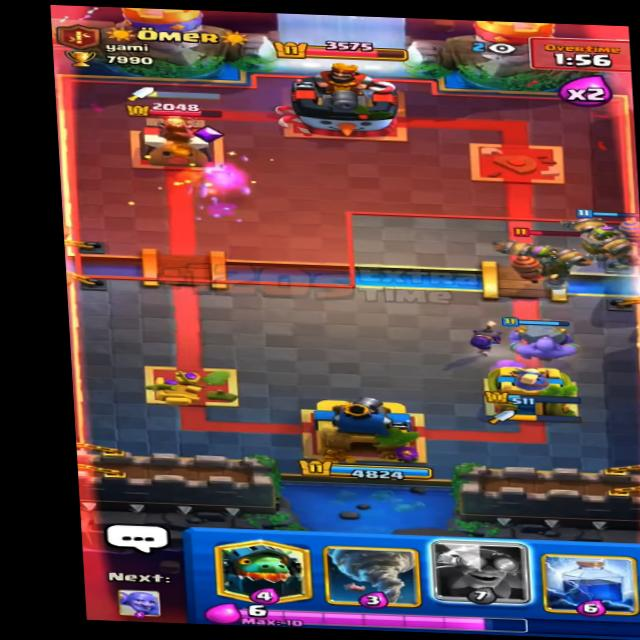Goblinmachine: (484, 226, 601, 285)
